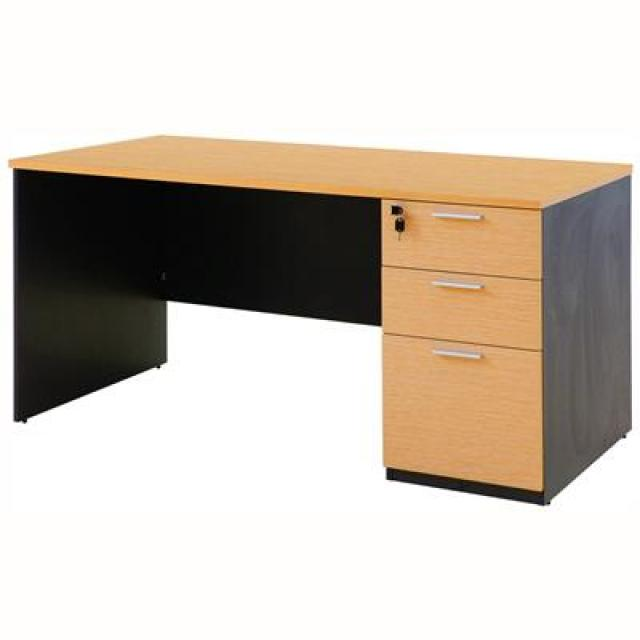table: (1, 125, 636, 512)
